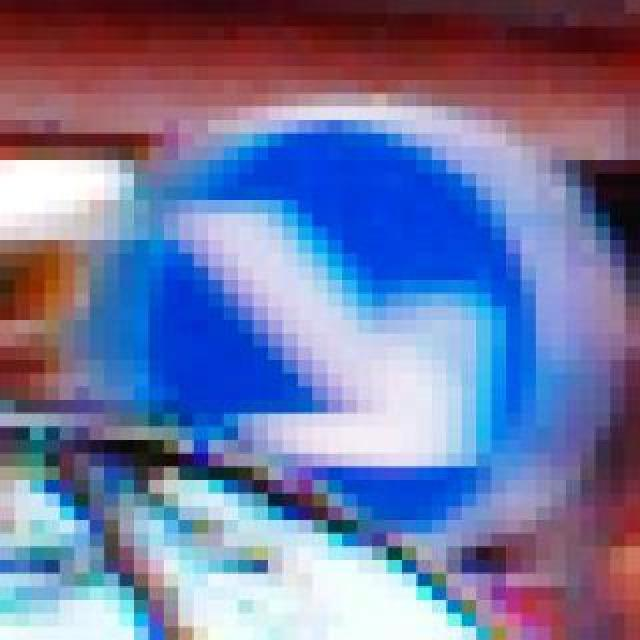keep right: (90, 80, 596, 560)
